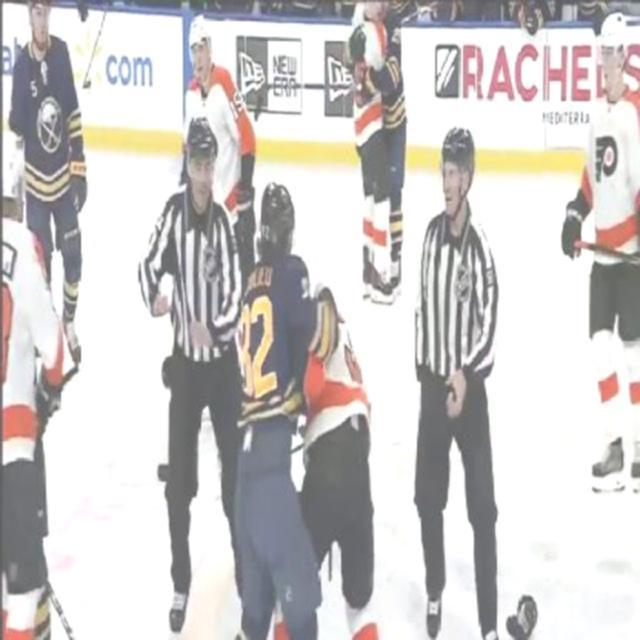fight: (230, 180, 370, 640)
